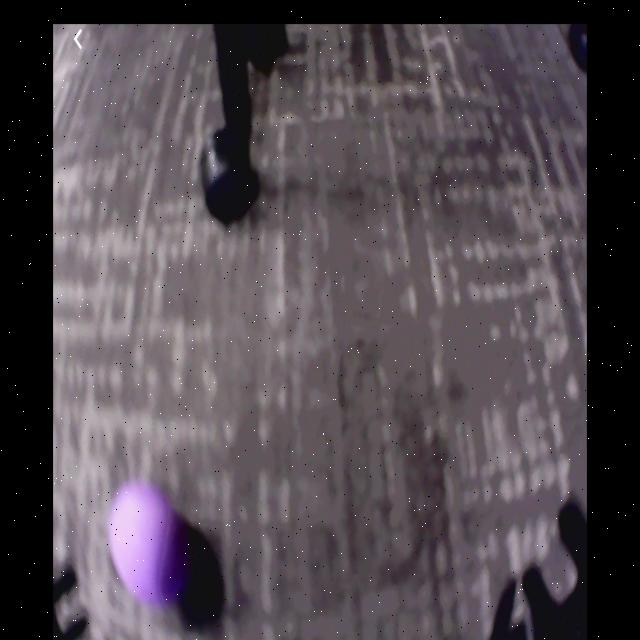ball: (111, 477, 183, 610)
